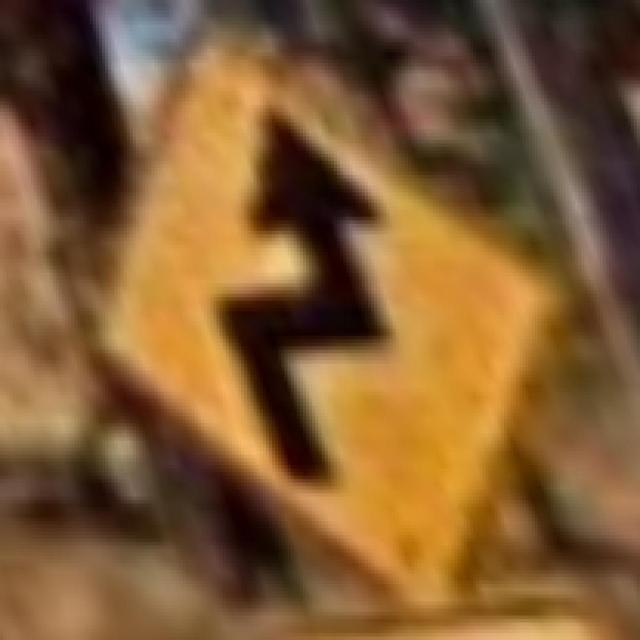Tikungan Ganda Pertama Ke Kanan: (93, 21, 550, 608)
